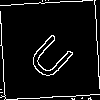U: (25, 25, 83, 84)
